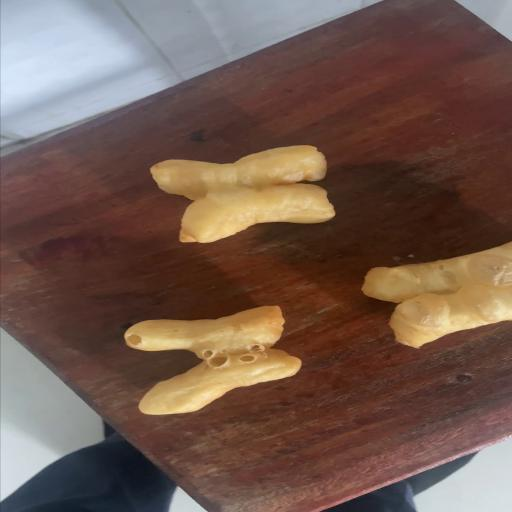street_golden_defect: (362, 242, 512, 347)
street_golden_good: (151, 145, 335, 243)
